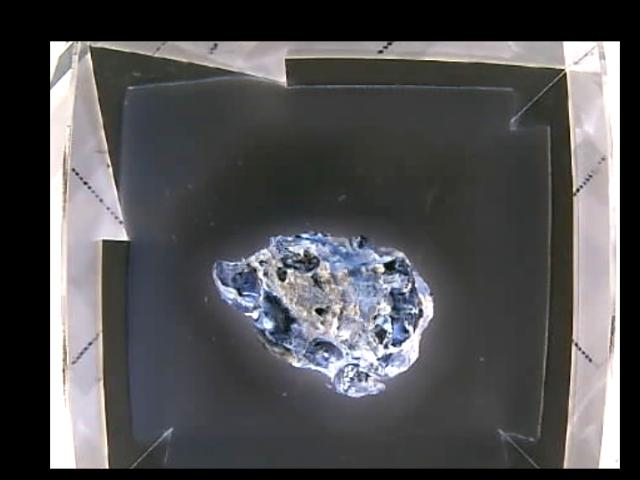Shell: (214, 233, 432, 397)
